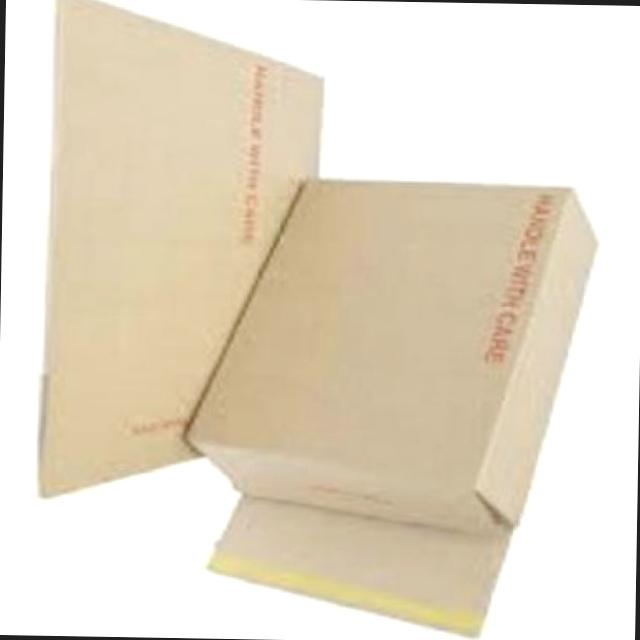box: (179, 173, 602, 542)
